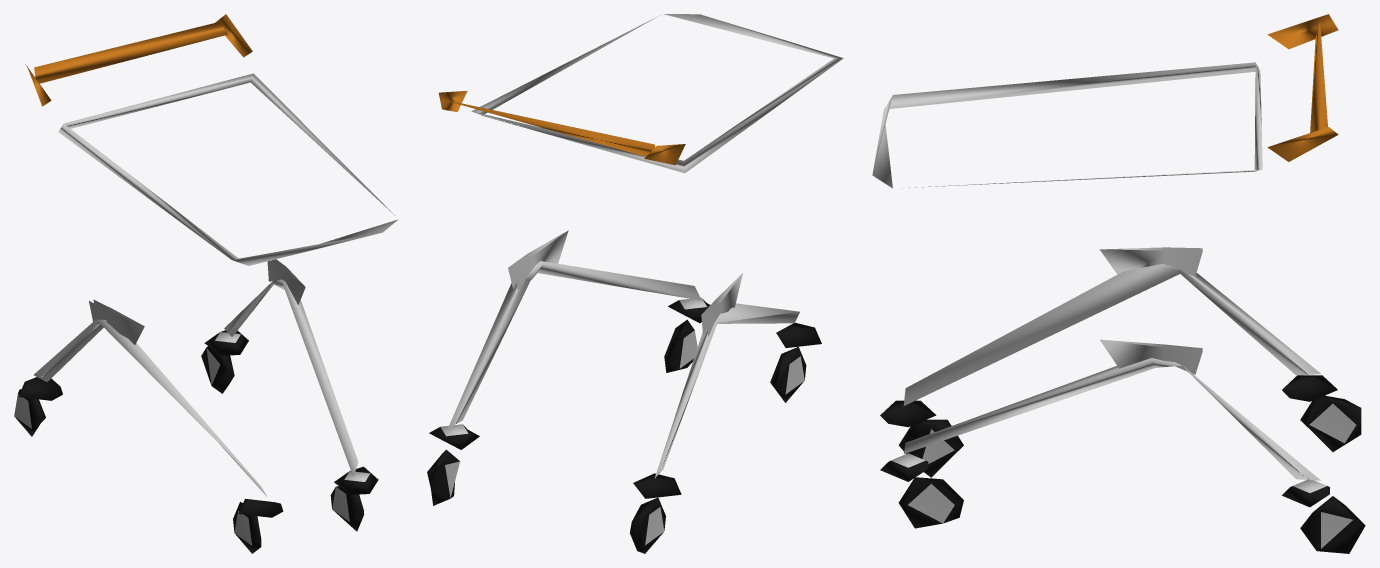
File: shop-cart.lod1.glb
3 renders of one model, left to right at view 1: azimuth 30°, elevation 25°; view 2: azimuth 150°, elevation 25°; view 3: azimuth 270°, elevation 25°, orthographic. The views are drawn at different scales.
Visible parts, largest first — view 1: Object_4; view 2: Object_4; view 3: Object_4.
Boxes of the visible parts, x1,y1,x2,y2 form: Object_4: (14,14,398,553); Object_4: (427,14,843,553); Object_4: (872,14,1365,553).
Size of the model in its own units: 0.5602 by 0.8749 by 0.9026.
